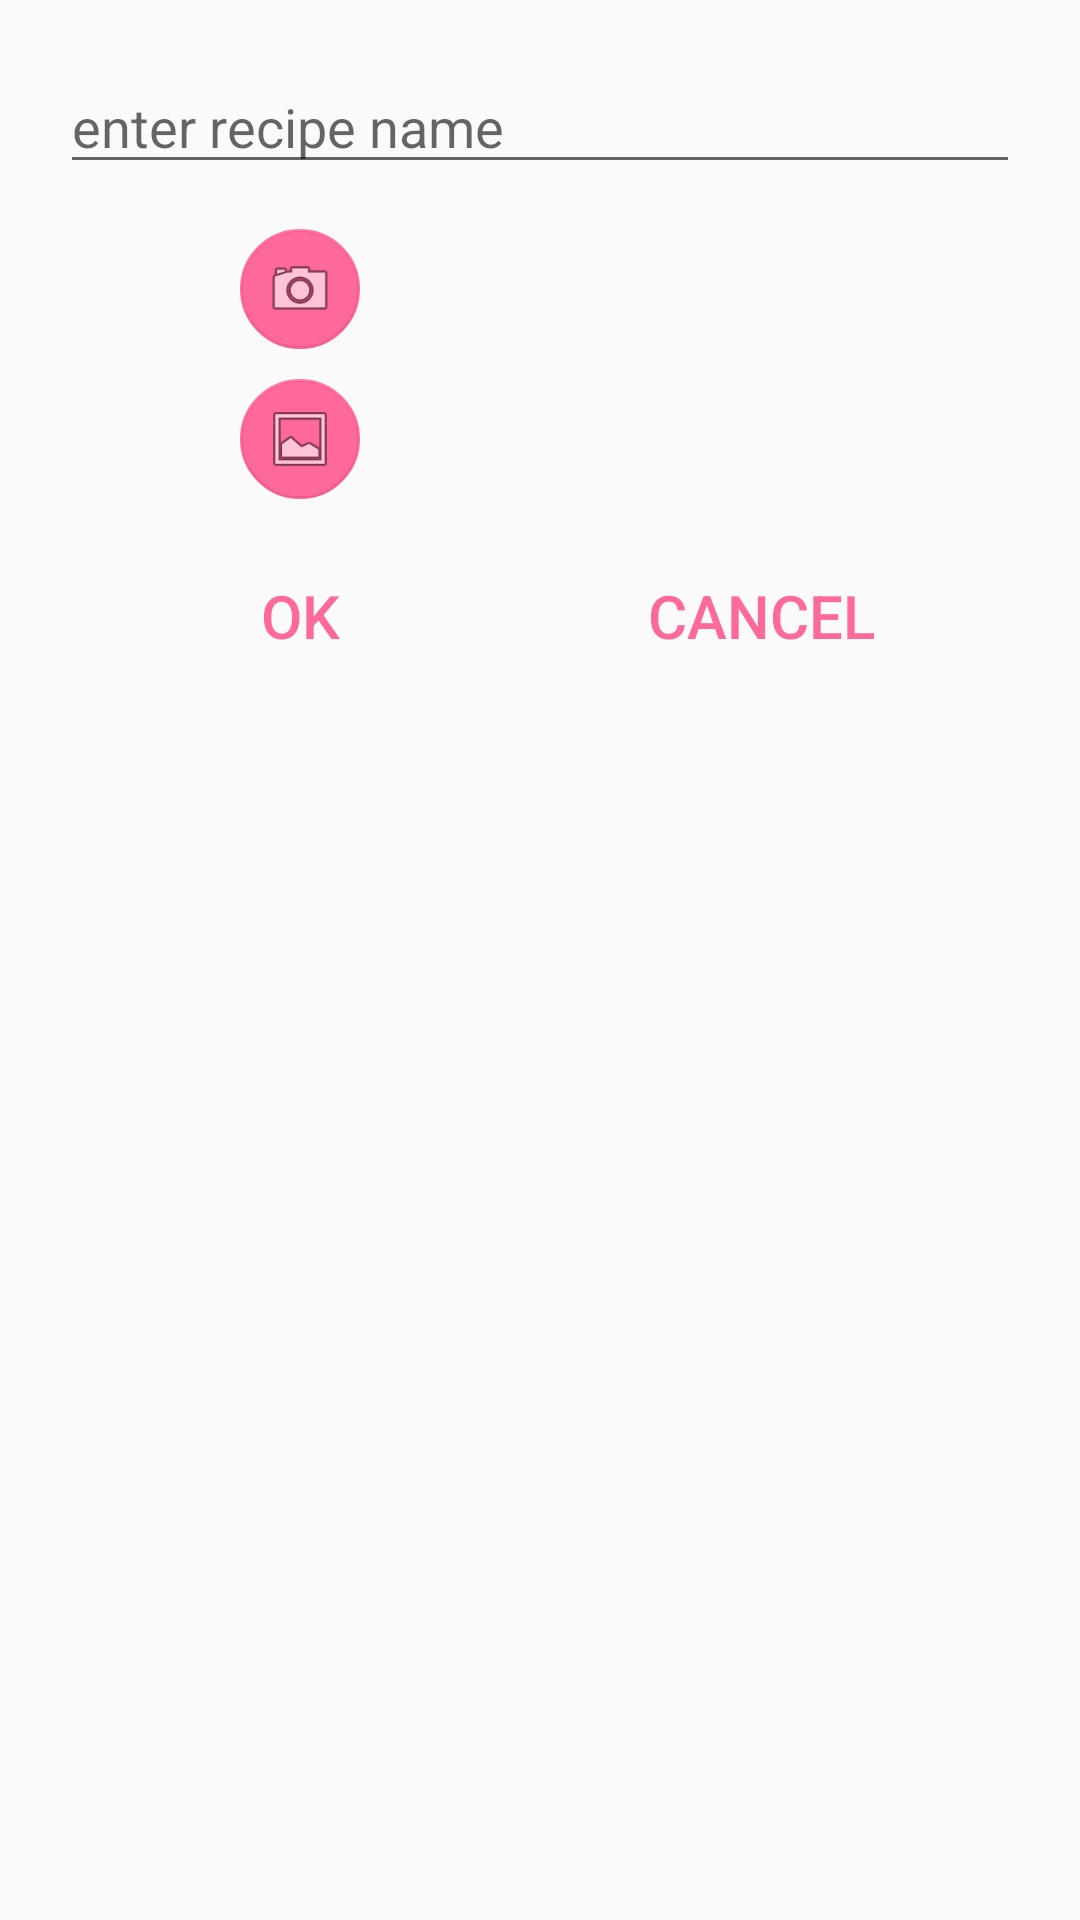

Screen size 1080px x 1920px. Icon name, then its center in pixels as point (x, y):
camera: point (300, 289)
gallery: point (300, 439)
